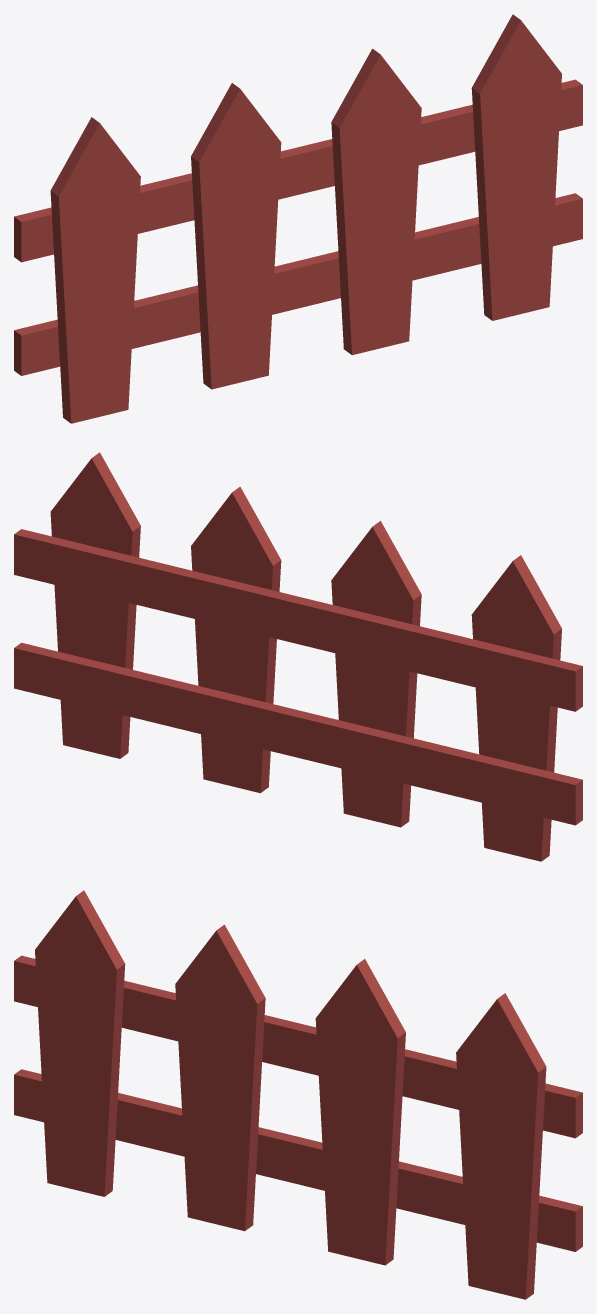
File: ZaunGerade.fbx
3 views of the same model, one above another, from view 1: azimuth 30°, elevation 25°; view 2: azimuth 150°, elevation 25°; view 3: azimuth 330°, elevation 25° (orthographic).
Parts seen in each view (by area): view 1: Plane.001; view 2: Plane.001; view 3: Plane.001.
Part boxes in pixels (x1,y1,x2,y2): Plane.001: (14, 14, 582, 423); Plane.001: (14, 452, 582, 861); Plane.001: (14, 890, 582, 1299).
Bounding box in the file's own units: 200 × 100 × 9.67.
